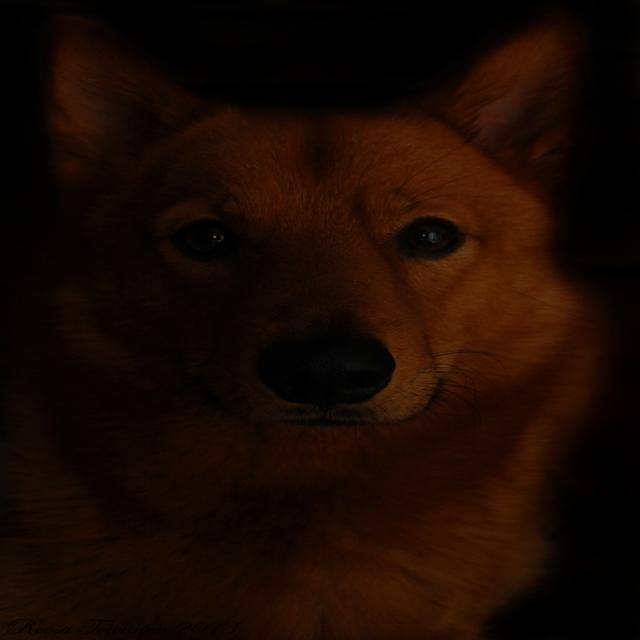Dog: (0, 62, 640, 586)
